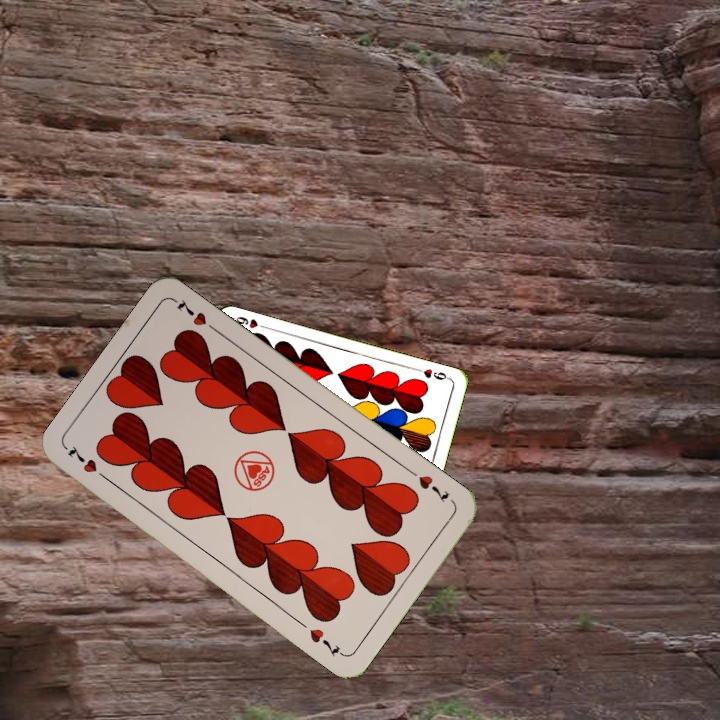H7: (62, 442, 113, 485), (404, 465, 452, 504)
H9: (412, 365, 452, 383)
